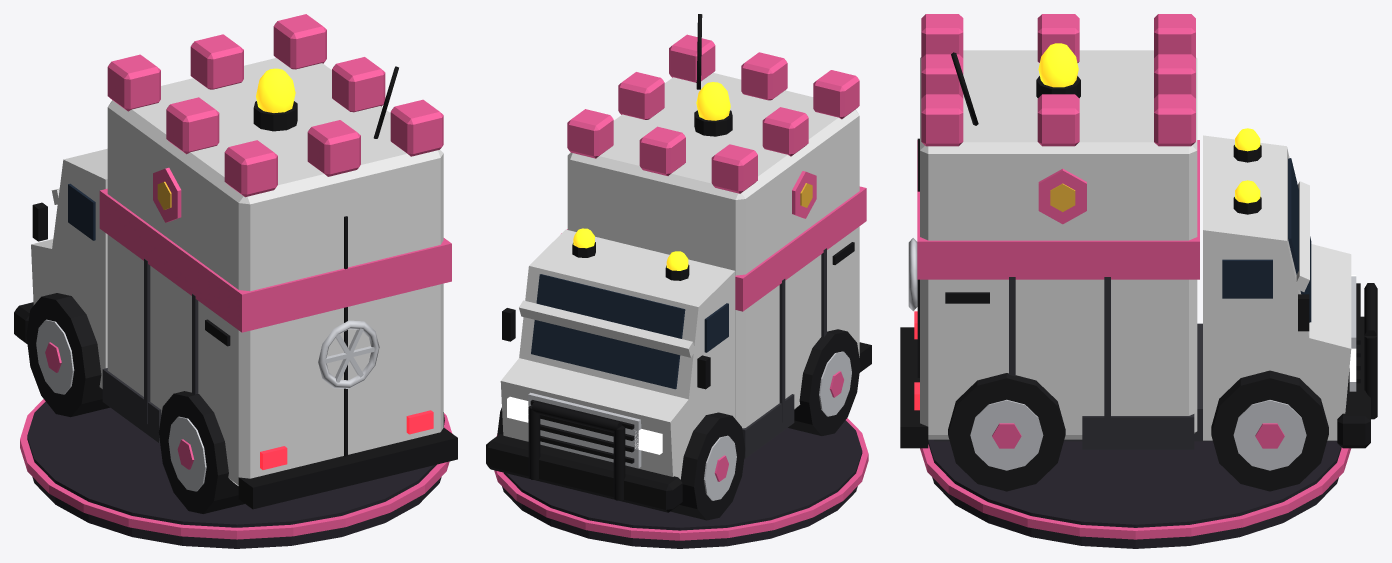
The model's file is rook.glb.
The picture shows the model from 3 angles, left to right: view 1: azimuth 30°, elevation 25°; view 2: azimuth 150°, elevation 25°; view 3: azimuth 270°, elevation 25°; orthographic projection. The views are drawn at different scales.
Visible parts, largest first — view 1: rook, wheel_fl, wheel_rl; view 2: rook, wheel_fl, wheel_rl; view 3: rook, wheel_fr, wheel_rr.
Boxes of the visible parts, x1,y1,x2,y2 form: rook: (14, 14, 457, 548); wheel_fl: (26, 293, 109, 417); wheel_rl: (158, 391, 244, 513); rook: (486, 14, 871, 548); wheel_fl: (671, 412, 745, 520); wheel_rl: (788, 329, 860, 435); rook: (900, 14, 1377, 548); wheel_fr: (1211, 370, 1328, 491); wheel_rr: (948, 373, 1065, 491).
Bounding box in the file's own units: 0.724 × 0.8164 × 0.8009.
